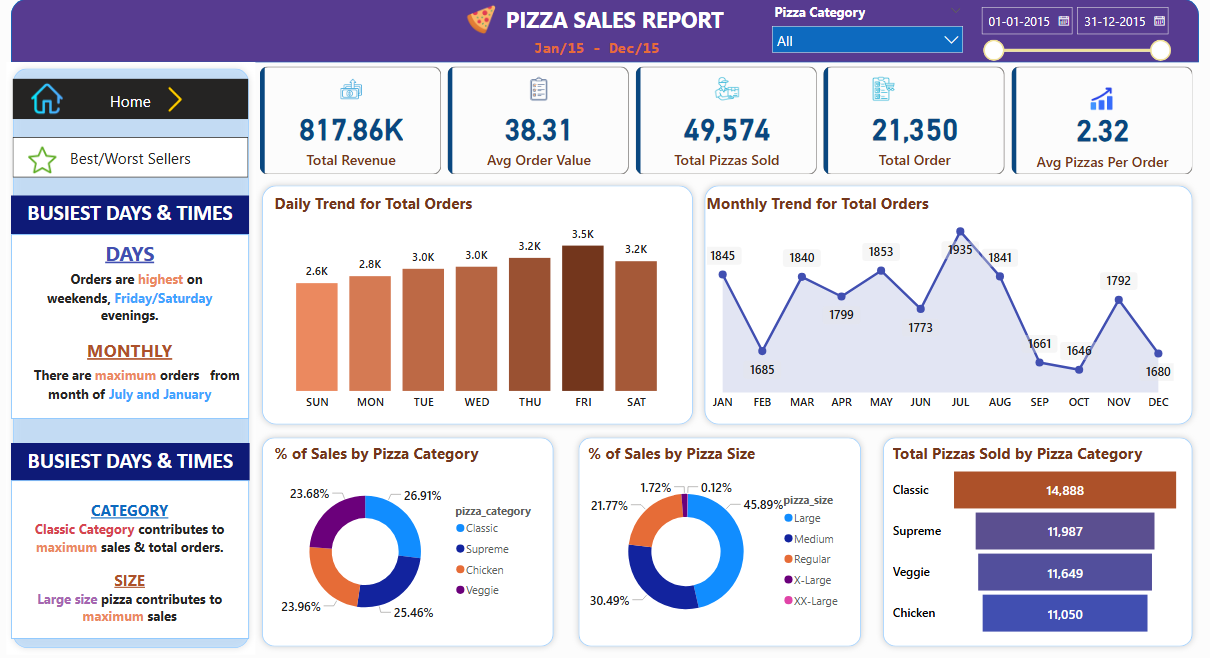

What the dashboard file says about the page in this screenshot:
{"tool":"powerbi","page":{"name":"Home","canvas":[1500,820],"ordinal":0},"visuals":[{"type":"shape","box":[17.7,0,1460.4,78.1],"z":0},{"type":"cardVisual","fields":{"Data":["pizzadb pizza_sales.Total Revenue","pizzadb pizza_sales.Avg Order Value","pizzadb pizza_sales.Total Pizzas Sold","pizzadb pizza_sales.Total Order","pizzadb pizza_sales.Avg Pizzas Per Order"]},"box":[319,77.5,1160,143.8],"z":1000},{"type":"textbox","box":[597.5,1.8,326.4,47.9],"z":2000},{"type":"textbox","box":[656.5,44.3,188.1,33.2],"z":3000},{"type":"image","box":[570.4,1.9,53.7,46.3],"z":4000},{"type":"shape","box":[319,221.3,545.9,309.8],"z":5000},{"type":"columnChart","title":"Daily Trend for Total Orders","fields":{"Category":["pizzadb pizza_sales.Order Day"],"Y":["pizzadb pizza_sales.Total Order"]},"box":[337.5,237.9,507.1,276.6],"z":6000},{"type":"shape","box":[863,221.3,615.9,309.8],"z":7000},{"type":"areaChart","title":"Monthly Trend for Total Orders","fields":{"Category":["pizzadb pizza_sales.Order Month"],"Y":["pizzadb pizza_sales.Total Order"]},"box":[868.6,237.9,584.6,276.6],"z":8000},{"type":"shape","box":[319,531.1,374.4,272.9],"z":9000},{"type":"shape","box":[12.9,77.5,306.1,728.4],"z":10000},{"type":"shape","box":[708.1,531.1,363.3,272.9],"z":11000},{"type":"donutChart","title":"%  of Sales by Pizza Category","fields":{"Category":["pizzadb pizza_sales.pizza_category"],"Y":["pizzadb pizza_sales.Total Revenue"]},"box":[337.5,545.9,341.2,241.6],"z":12000},{"type":"donutChart","title":"% of Sales by Pizza Size","fields":{"Category":["pizzadb pizza_sales.pizza_size"],"Y":["pizzadb pizza_sales.Total Revenue"]},"box":[722.9,545.9,330.1,241.6],"z":13000},{"type":"shape","box":[1082.5,531.1,396.5,272.9],"z":14000},{"type":"funnel","title":"Total Pizzas Sold by Pizza Category","fields":{"Category":["pizzadb pizza_sales.pizza_category"],"Y":["pizzadb pizza_sales.Total Pizzas Sold"]},"box":[1097.3,545.9,363.3,241.6],"z":15000},{"type":"textbox","box":[18.9,241.5,292.5,47.2],"z":16000},{"type":"textbox","box":[18.9,288.7,292.5,226.4],"z":17000},{"type":"textbox","box":[18.4,545.9,293.2,46.1],"z":18000},{"type":"textbox","box":[18.9,592.5,292.5,194.3],"z":19000},{"type":"slicer","fields":{"Values":["pizzadb pizza_sales.pizza_category"]},"box":[944.2,0,254.5,77.5],"z":20000},{"type":"slicer","fields":{"Values":["pizzadb pizza_sales.order_date"]},"box":[1198.7,0,254.5,77.5],"z":21000},{"type":"pageNavigator","box":[20.8,98.1,290.6,50.9],"z":22000},{"type":"pageNavigator","box":[20.8,169.8,290.6,50.9],"z":23000},{"type":"image","box":[200,98.1,41.5,50.9],"z":24000},{"type":"image","box":[20.8,175.5,73.6,45.3],"z":25000},{"type":"image","box":[32.1,98.1,62.3,49.1],"z":26000},{"type":"image","box":[1338.8,97.7,40.6,49.8],"z":27000}]}

Visuals, with their boxes in screenshot pixels (x1, y1, x2, y2), scaled from the page's 1500x820 canvas onto the 1210x658 screenshot:
shape: l=14, t=0, r=1192, b=63
cardVisual - pizzadb pizza_sales.Total Revenue x pizzadb pizza_sales.Avg Order Value: l=257, t=62, r=1193, b=178
textbox: l=482, t=1, r=745, b=40
textbox: l=530, t=36, r=681, b=62
image: l=460, t=2, r=503, b=39
shape: l=257, t=178, r=698, b=426
"Daily Trend for Total Orders" columnChart: l=272, t=191, r=681, b=413
shape: l=696, t=178, r=1193, b=426
"Monthly Trend for Total Orders" areaChart: l=701, t=191, r=1172, b=413
shape: l=257, t=426, r=559, b=645
shape: l=10, t=62, r=257, b=647
shape: l=571, t=426, r=864, b=645
"%  of Sales by Pizza Category" donutChart: l=272, t=438, r=547, b=632
"% of Sales by Pizza Size" donutChart: l=583, t=438, r=849, b=632
shape: l=873, t=426, r=1193, b=645
"Total Pizzas Sold by Pizza Category" funnel: l=885, t=438, r=1178, b=632
textbox: l=15, t=194, r=251, b=232
textbox: l=15, t=232, r=251, b=413
textbox: l=15, t=438, r=251, b=475
textbox: l=15, t=475, r=251, b=631
slicer - pizzadb pizza_sales.pizza_category: l=762, t=0, r=967, b=62
slicer - pizzadb pizza_sales.order_date: l=967, t=0, r=1172, b=62
pageNavigator: l=17, t=79, r=251, b=120
pageNavigator: l=17, t=136, r=251, b=177
image: l=161, t=79, r=195, b=120
image: l=17, t=141, r=76, b=177
image: l=26, t=79, r=76, b=118
image: l=1080, t=78, r=1113, b=118
